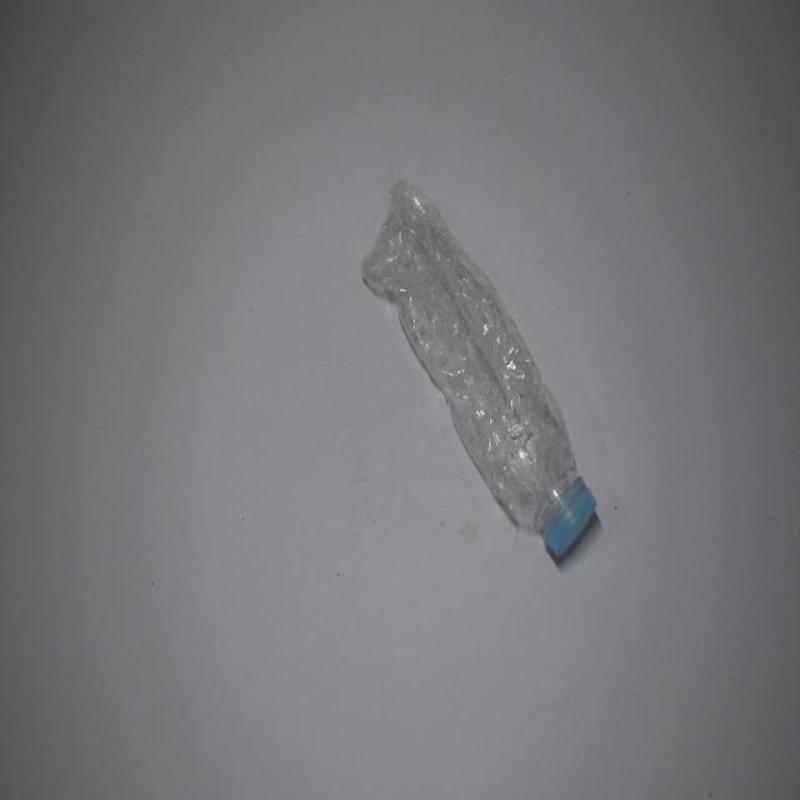botella: (360, 176, 598, 568)
